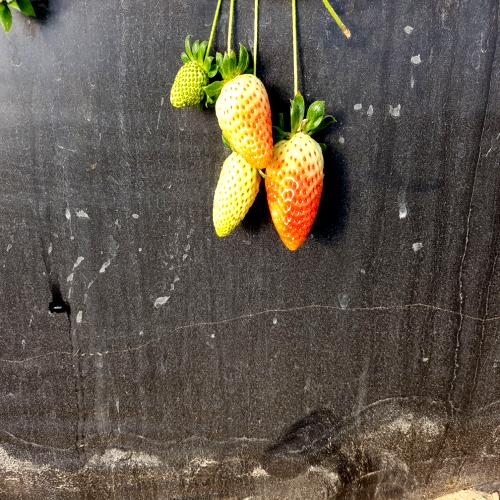partially-ripe: (266, 123, 328, 258), (214, 66, 277, 182)
